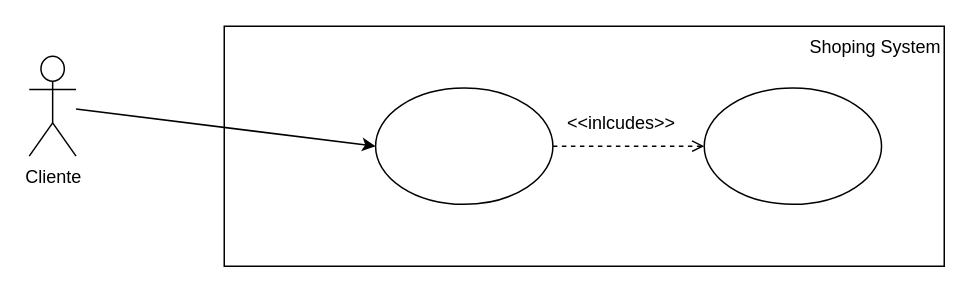
The diagram is 972 pixels wide and 293 high, and some of its shapes have lost their labels. Each missing label, with the centre of its shape:
"eliminar item" goes at point (792, 145).
"vaciar el carrito" goes at point (463, 145).
